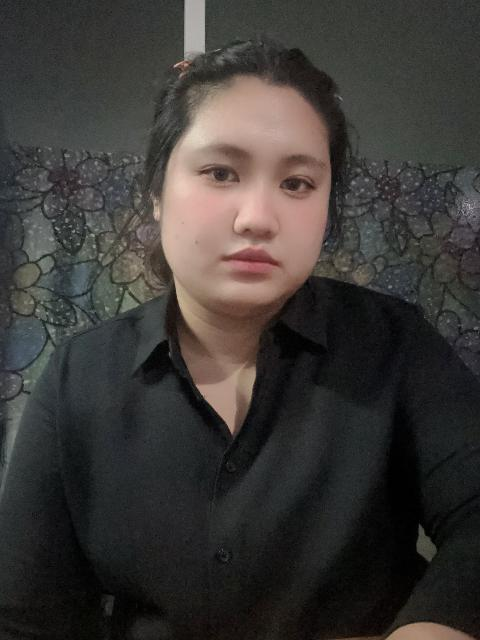fokus: (157, 37, 333, 311)
